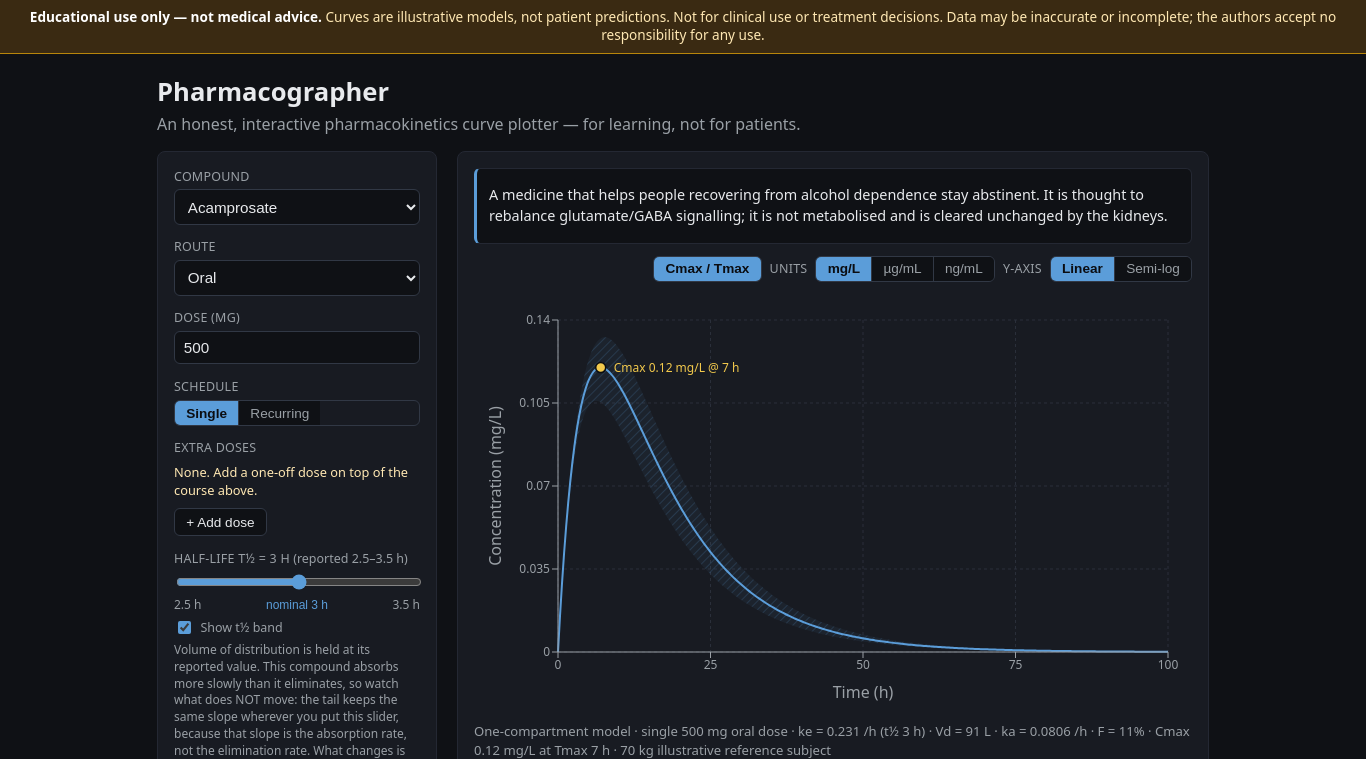
variability axes, wired through App › offers NO Vd slider for a saturable (Michaelis–Menten) compound
Select "Phenytoin" in the dropdown with class "control__input" showing "Compound" at coordinates (297, 207), box [174,190,420,225]
(page scrolled)
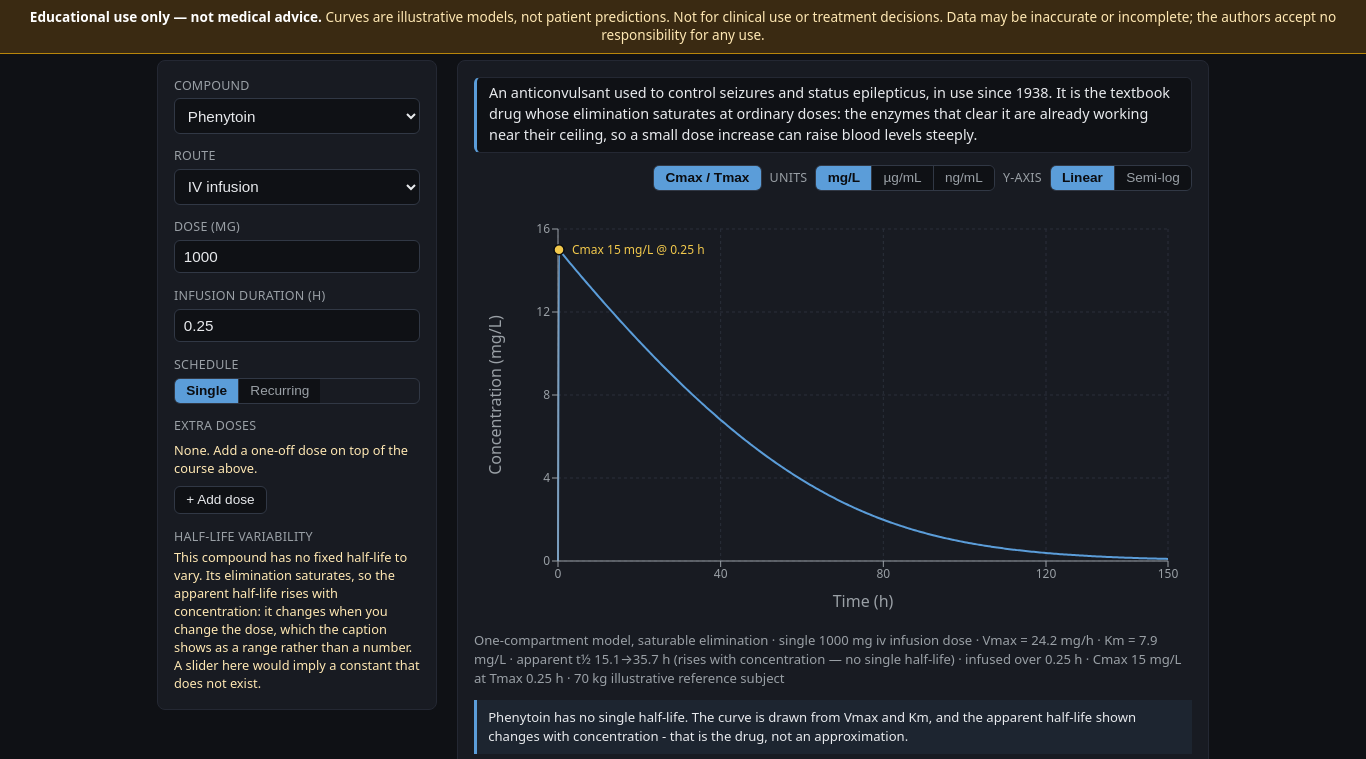
expect the element with class "controls" shows "no fixed half-life to vary": met, box [174,548,420,692]
